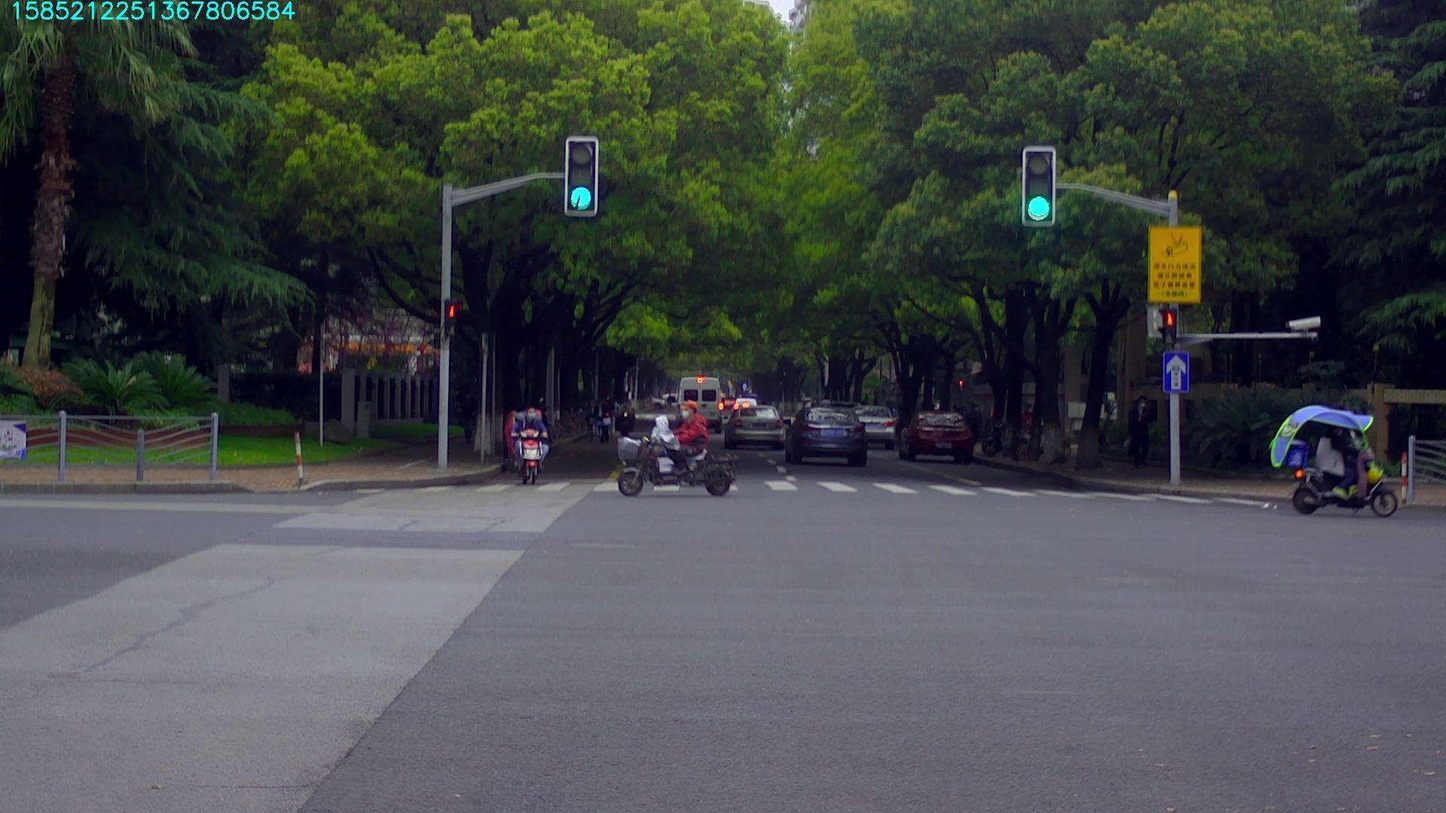green: (1024, 149, 1054, 224), (567, 139, 596, 212)
